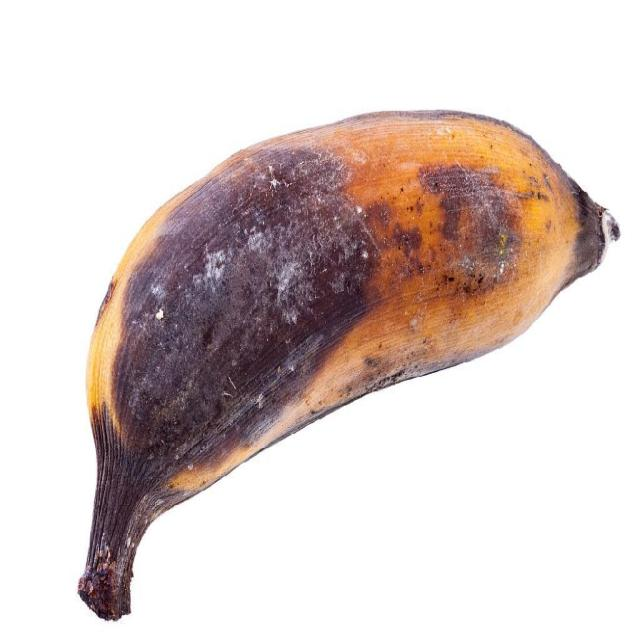organic: (78, 110, 619, 625)
